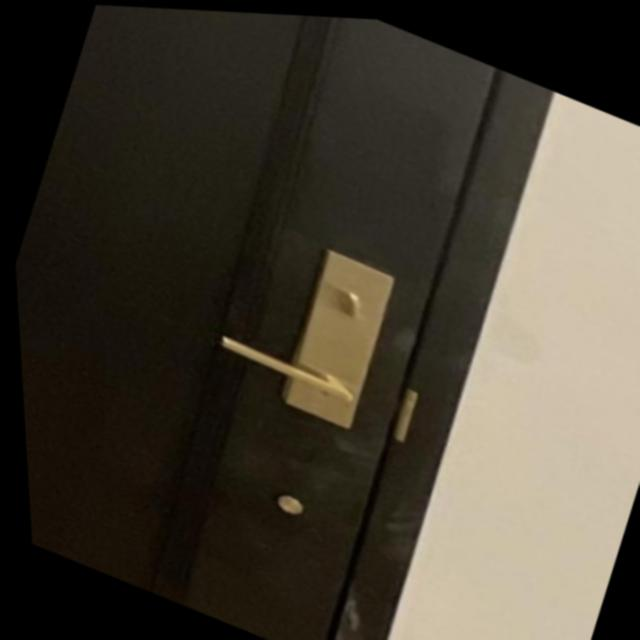door_handle: (181, 299, 387, 431)
